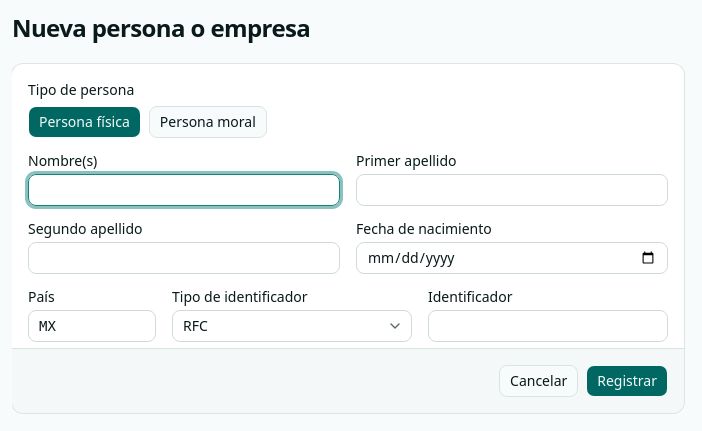
CreatePartyPage › disables the submit button while the request is out
This screenshot has width=702, height=431.
Type "Ana María" into the field labelled "Nombre(s)" at (184, 190), box x1=28 y1=174 x2=340 y2=206
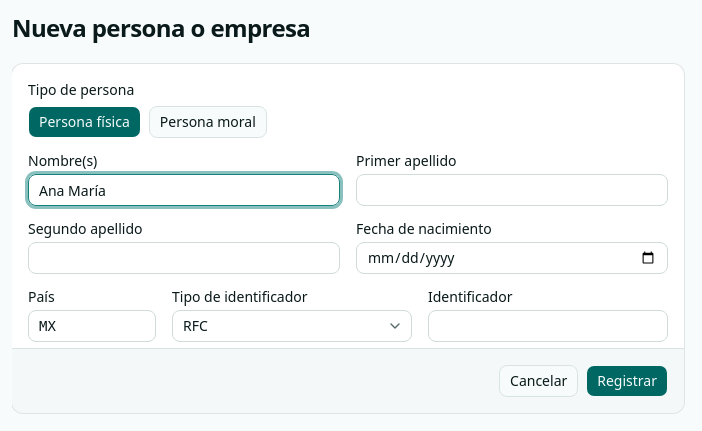
Type "Pérez" into the field labelled "Primer apellido" at (512, 190), box x1=356 y1=174 x2=668 y2=206
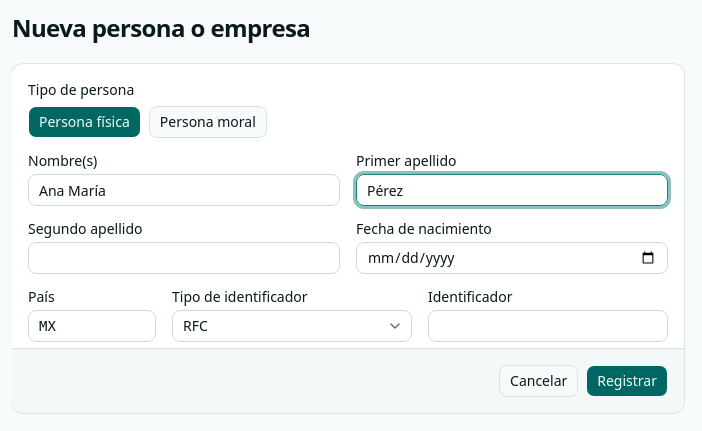
Type "CACX7605101P8" into the field labelled "Identificador" at (548, 326), box x1=428 y1=310 x2=668 y2=342
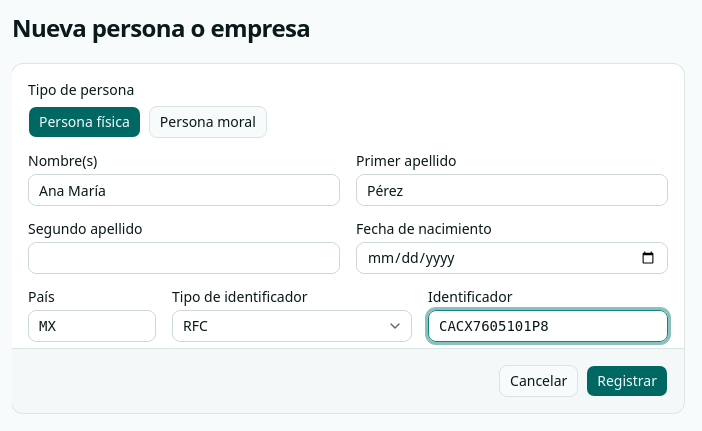
Click the button "Registrar" at (627, 381), box x1=586 y1=365 x2=668 y2=397
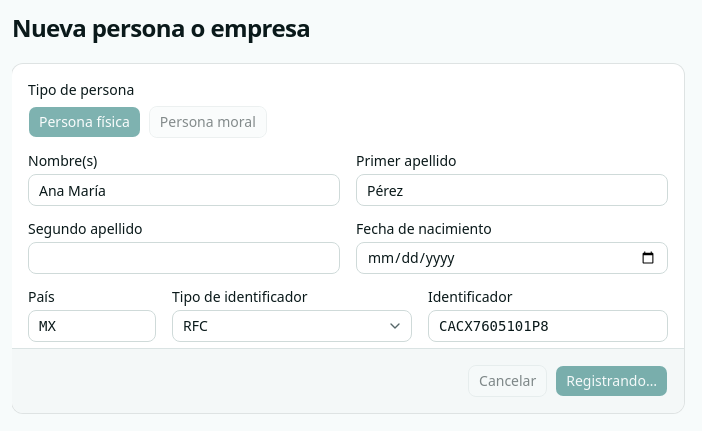
Expected: the button "Registrando…" is disabled, x1=555 y1=365 x2=668 y2=397
